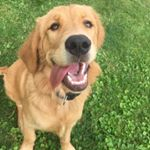puppy: (1, 1, 110, 148)
